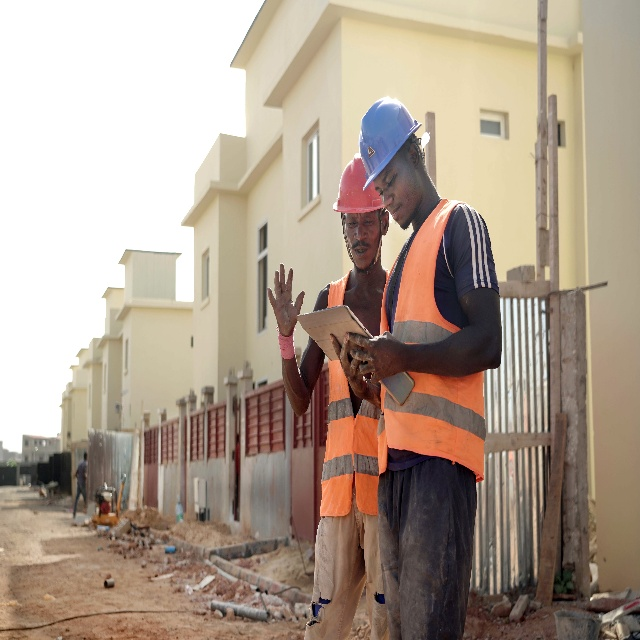Sin_guantes: (344, 327, 405, 385), (266, 262, 306, 336), (329, 329, 368, 398)
